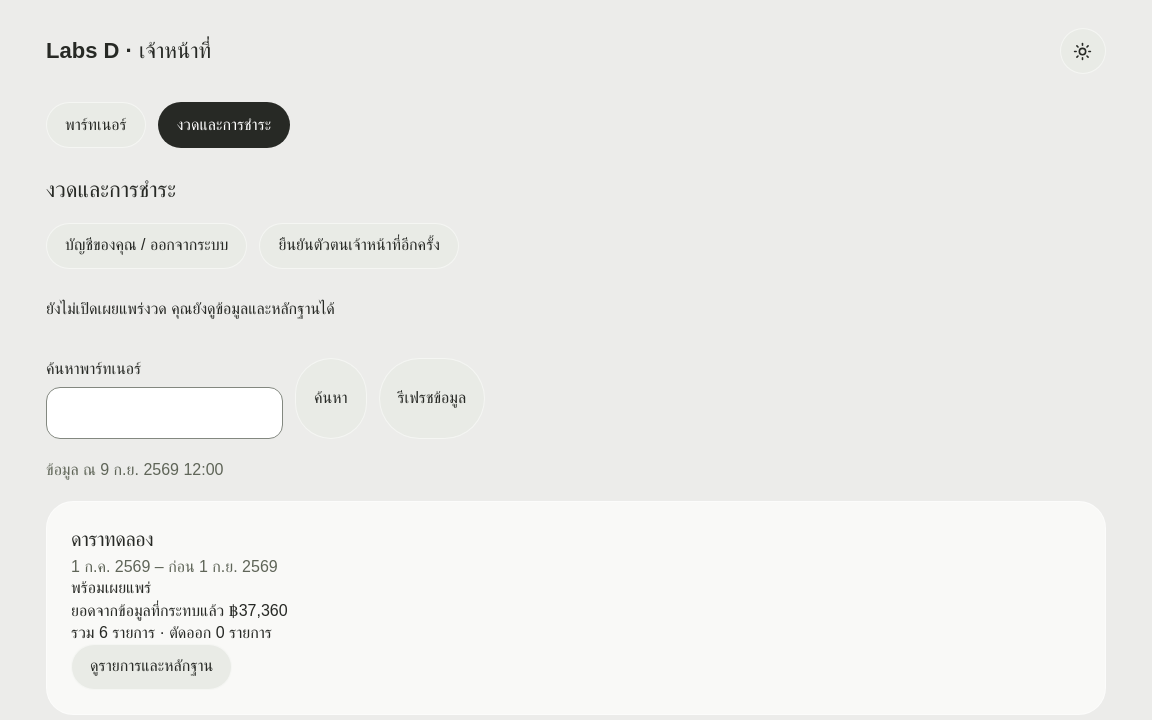
Scenario: staff publication review › keeps statements and evidence readable with publication off by default
Expected: the text "ยังไม่เปิดเผยแพร่งวด คุณยังดูข้อมูลและหลักฐานได้" is shown, [46, 300, 335, 317]
Click the button "ดูรายการและหลักฐาน": (152, 666) [71, 644, 232, 690]
(page scrolled)
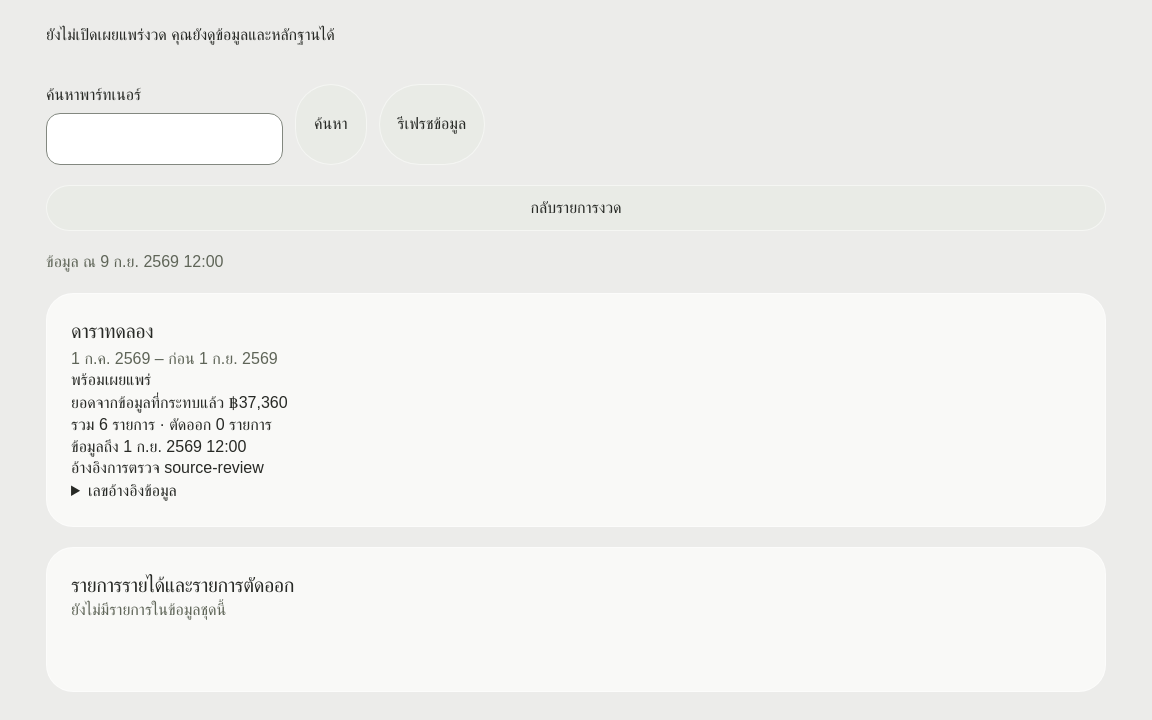
Expected: the text "อ้างอิงการตรวจ source-review" is shown, [71, 459, 264, 476]
Expected: the heading "รายการรายได้และรายการตัดออก" is shown, [71, 572, 294, 598]
